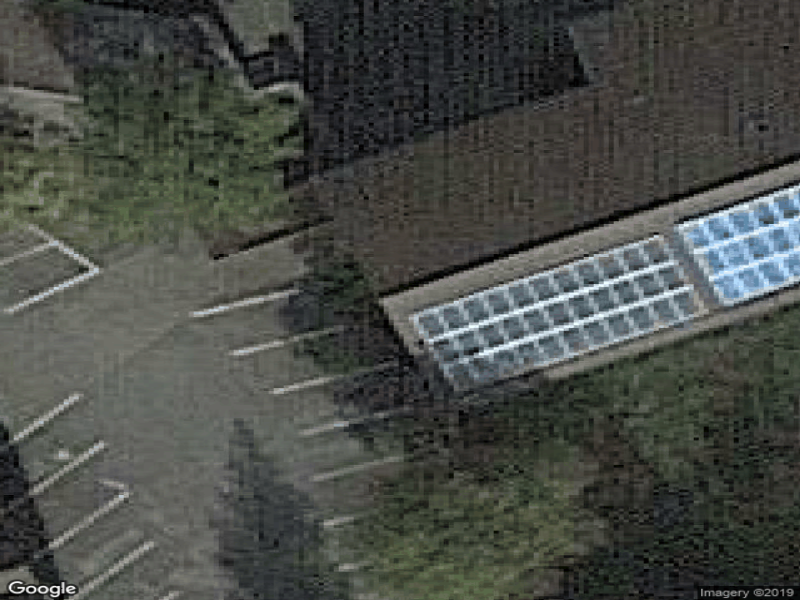pv: (411, 182, 800, 393)
